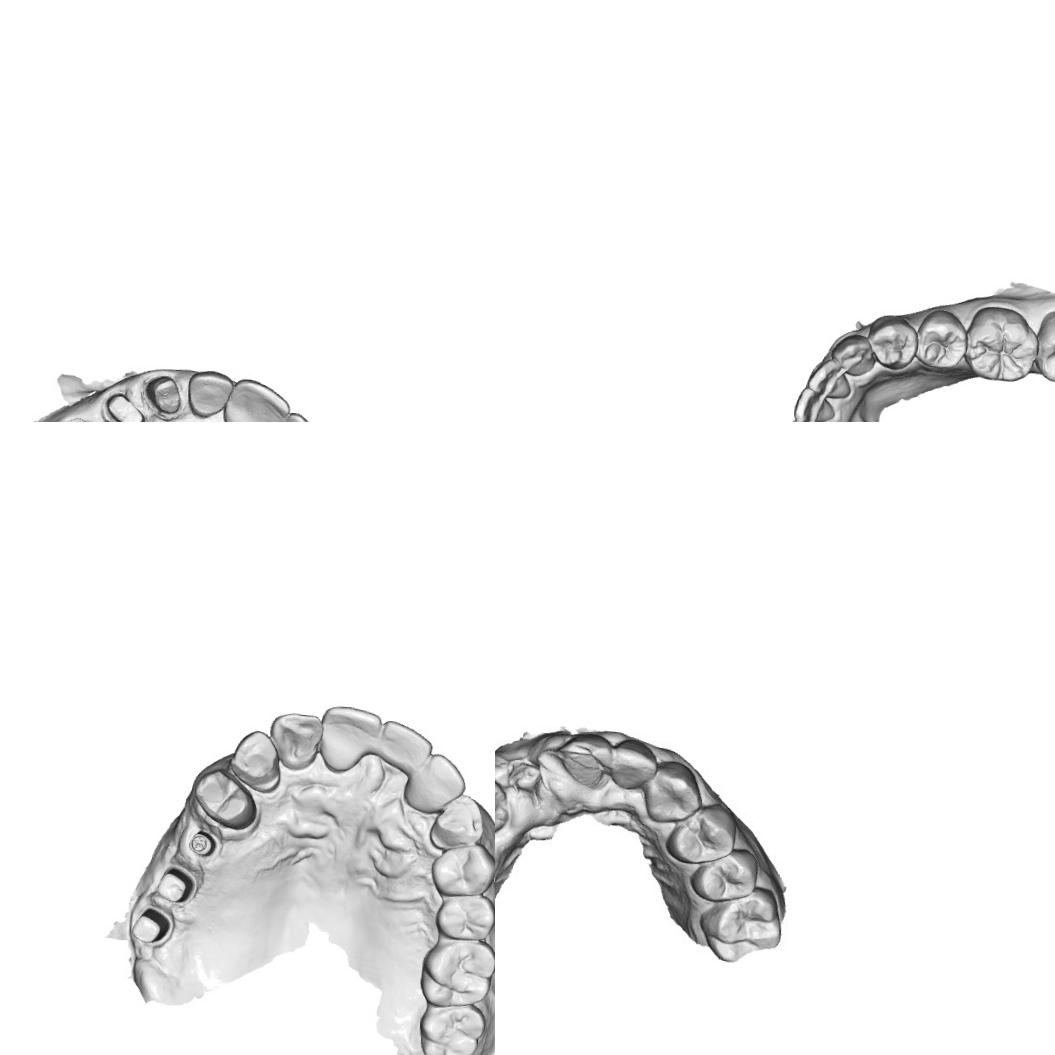abutment: (126, 901, 176, 949), (154, 862, 199, 906)
canine: (642, 758, 700, 826), (226, 728, 284, 795), (428, 790, 488, 852), (828, 331, 876, 377), (495, 770, 512, 840)
crown: (142, 372, 183, 415), (102, 391, 147, 422)
implant: (187, 828, 217, 858), (56, 414, 98, 422)
incisor: (316, 702, 382, 774), (400, 749, 468, 816), (558, 724, 616, 792), (266, 709, 324, 773), (376, 718, 434, 778), (220, 376, 292, 422), (606, 734, 660, 792), (184, 368, 234, 421), (805, 356, 853, 400), (791, 384, 836, 422), (265, 409, 330, 422)
molar: (692, 882, 790, 972), (962, 303, 1042, 384), (416, 936, 495, 1010), (415, 999, 486, 1055), (1036, 309, 1055, 385)
premolar: (664, 802, 740, 872), (190, 766, 260, 832), (688, 846, 762, 908), (428, 838, 495, 898), (912, 306, 969, 371), (431, 891, 495, 942), (864, 312, 920, 370)
